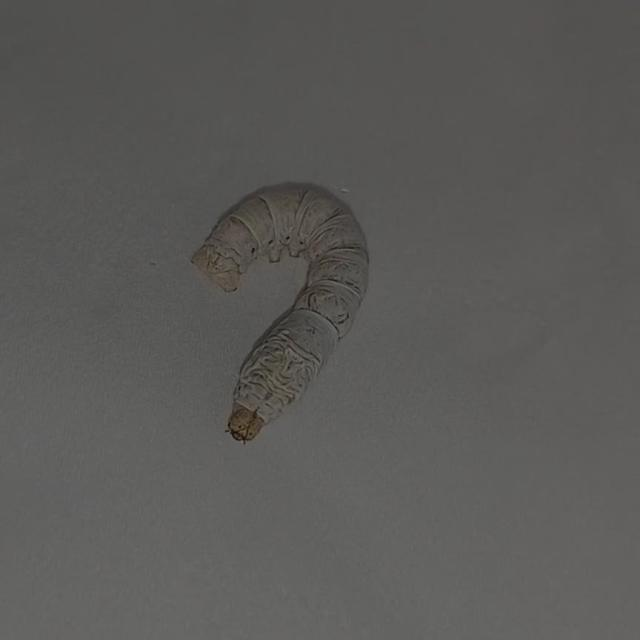Healthy: (178, 168, 391, 462)
